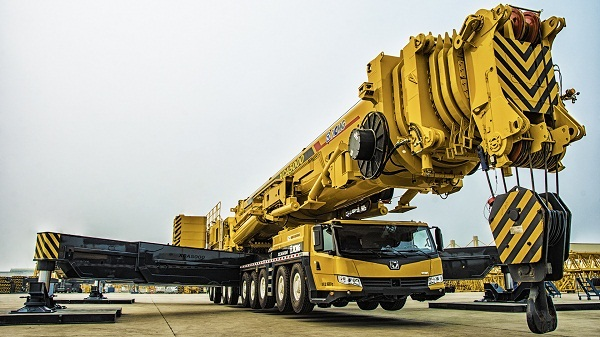crane: (34, 5, 575, 321)
